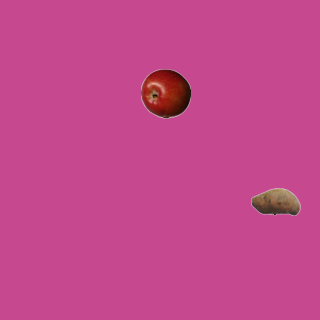Apple Braeburn: (140, 68, 190, 118)
Potato Sweet: (250, 176, 300, 226)
